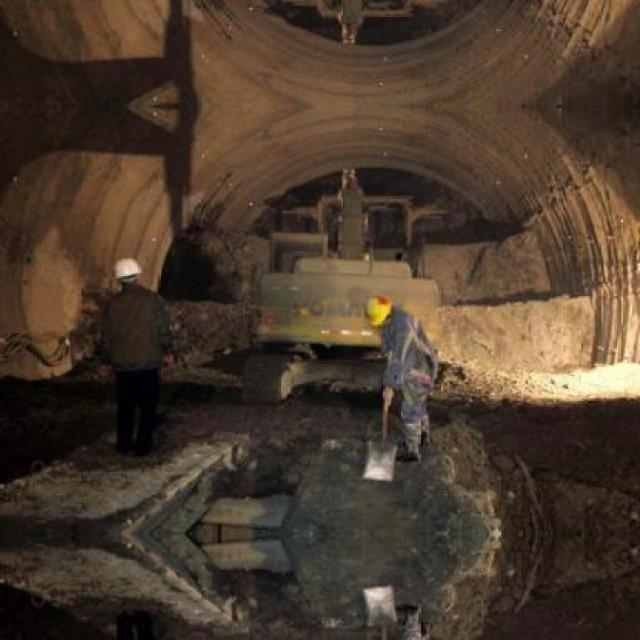helmet: (108, 257, 141, 294), (364, 292, 399, 326)
